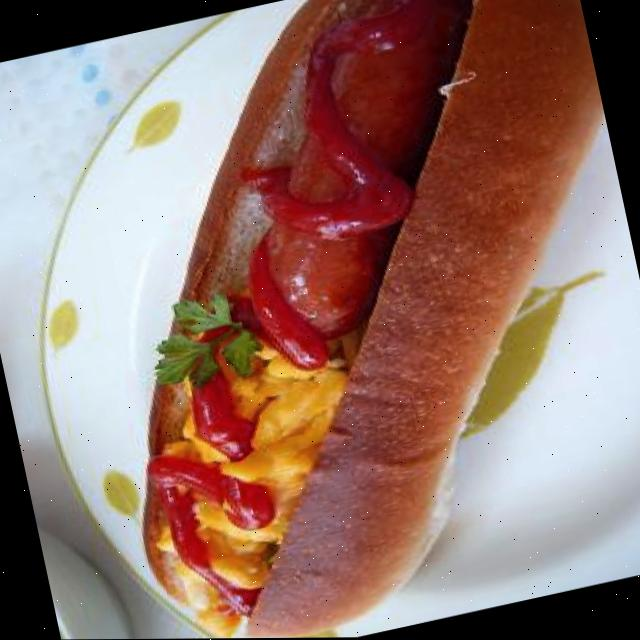汉堡快餐: (21, 0, 640, 640)
